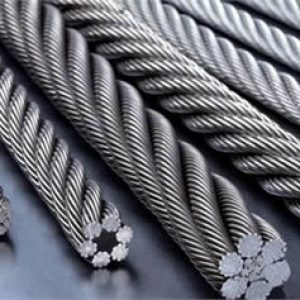Nonrec_Tangler: (4, 4, 283, 281)
